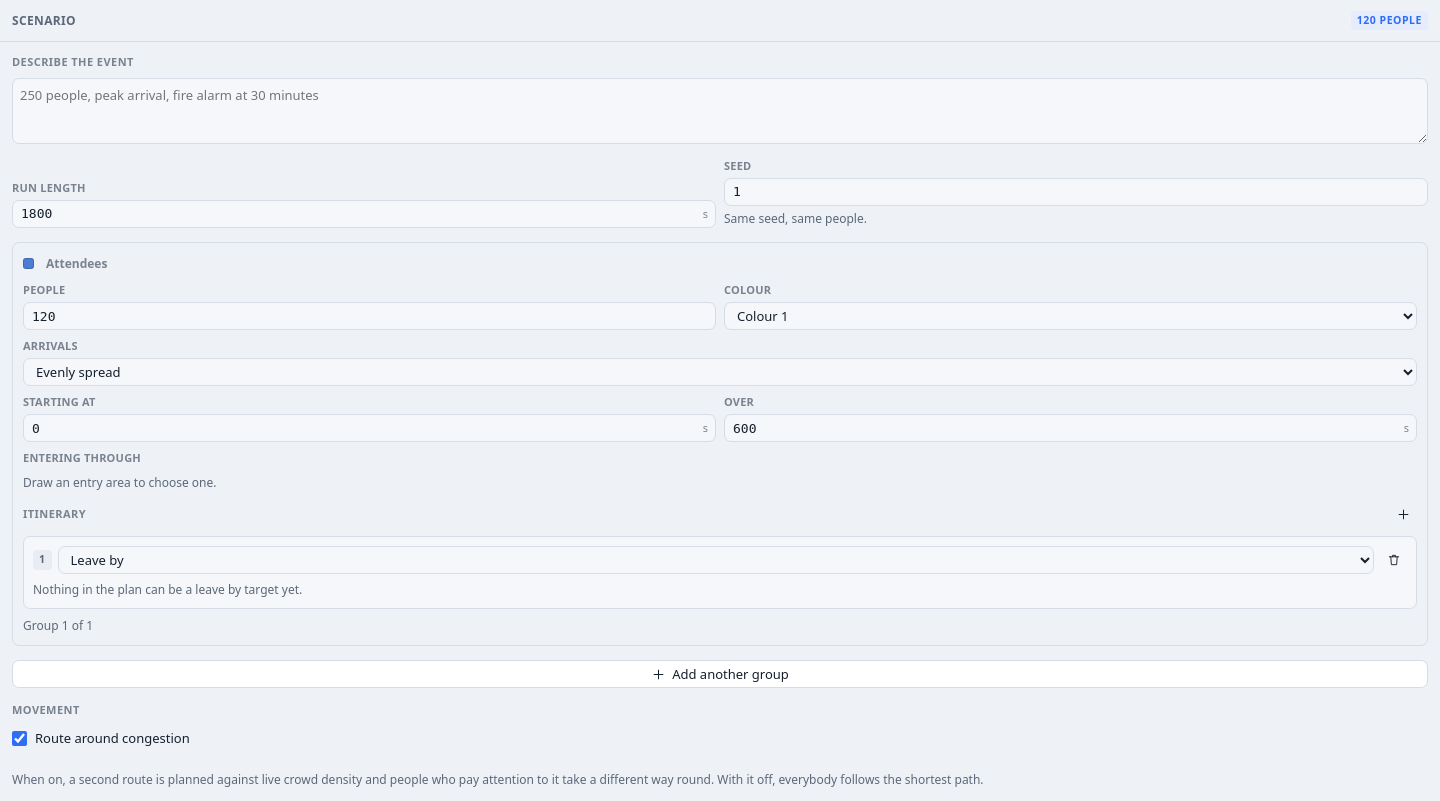
Test: groups of people › drops the arrival window when everybody arrives at once
Expected: the field labelled "Over" holds "600", [724,414,1417,442]
Select "All at once" in the dropdown showing "Evenly spread" at coordinates (720, 372), box [23,358,1417,386]
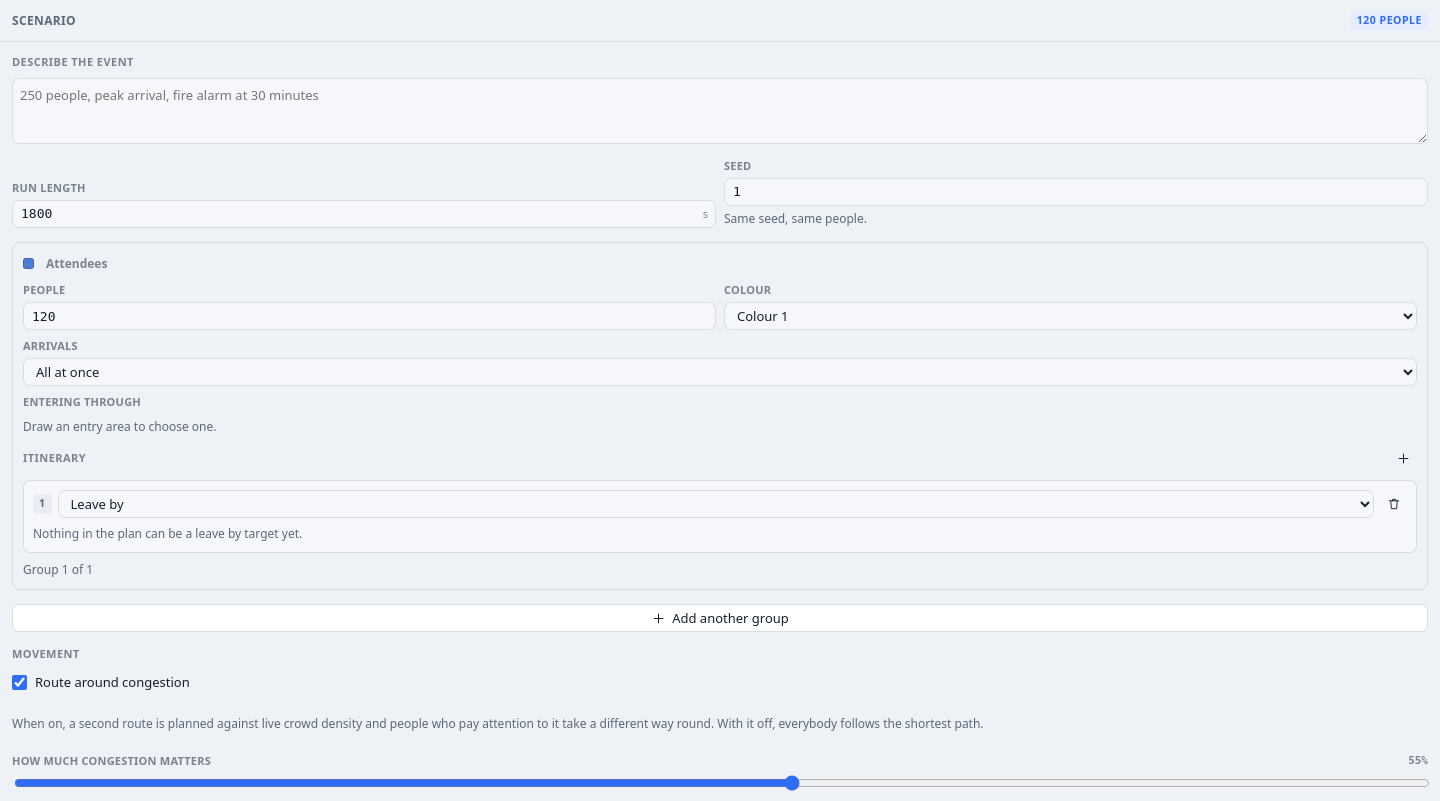
Expected: the text "Over" is gone
Expected: the text "Starting at" is gone
